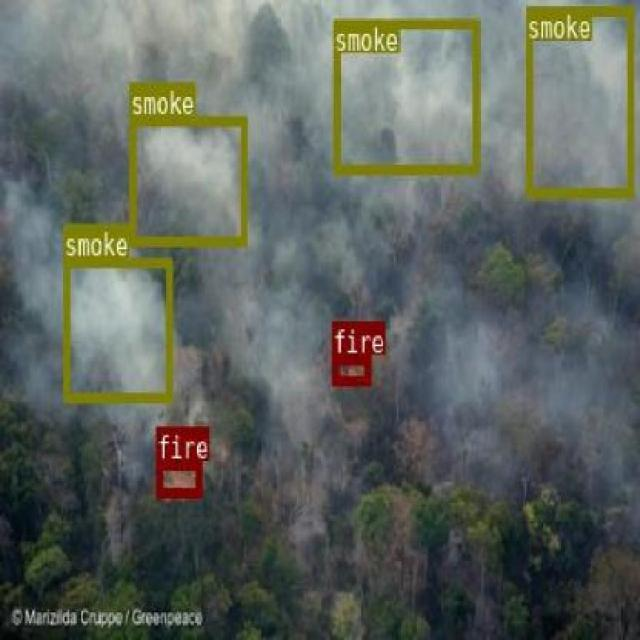Fire: (154, 458, 200, 494), (332, 354, 370, 384)
Smoke: (425, 246, 613, 494), (333, 16, 478, 172), (6, 10, 292, 82), (526, 4, 632, 196), (206, 268, 328, 425), (62, 257, 172, 400), (129, 114, 245, 243)
